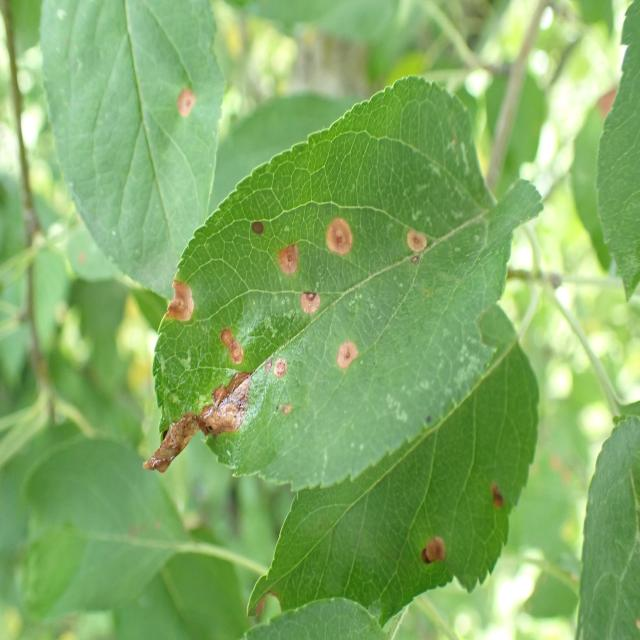Black Rot: (129, 368, 265, 477), (405, 210, 453, 288), (404, 518, 454, 581), (157, 266, 205, 326), (322, 328, 371, 384), (318, 208, 360, 268), (288, 276, 328, 331), (209, 314, 251, 365), (264, 346, 300, 397), (483, 473, 520, 521), (274, 233, 304, 290), (232, 209, 276, 245), (270, 397, 300, 437), (171, 89, 202, 117)
